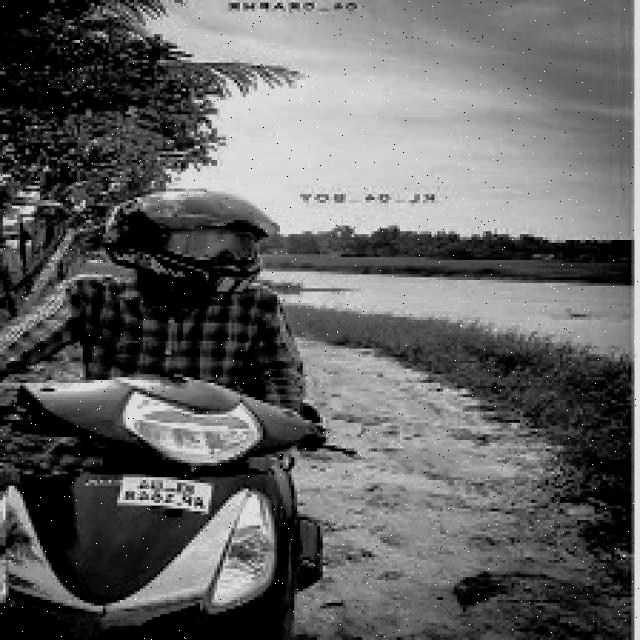Bike: (14, 373, 336, 639)
